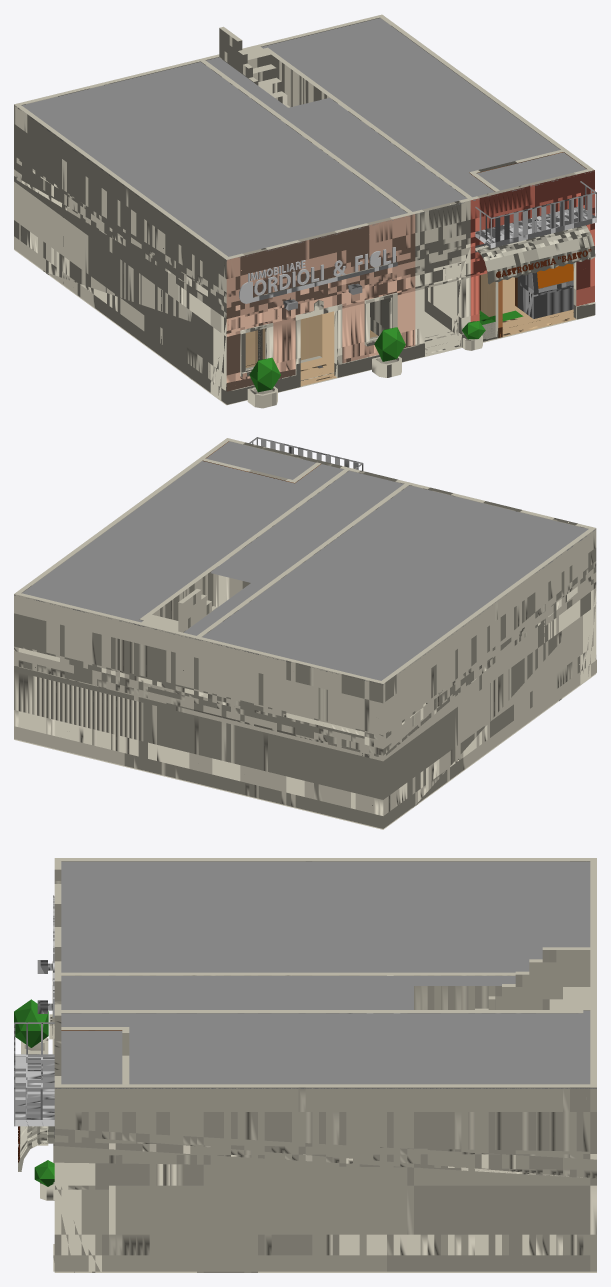
Rendered from Prova Baeto.fbx.
The picture shows the model from 3 angles, top to bottom: view 1: azimuth 30°, elevation 25°; view 2: azimuth 150°, elevation 25°; view 3: azimuth 270°, elevation 25°; orthographic projection. The views are drawn at different scales.
Parts seen in each view (by area): view 1: Paimento, Soffitto, Paimento_1, Platonico, Platonico_1; view 2: Paimento, Soffitto; view 3: Paimento, Soffitto, Platonico_1.
Boxes of the visible parts, x1=… form: Paimento: x1=14, y1=14, x2=596, y2=405; Soffitto: x1=15, y1=18, x2=594, y2=261; Paimento_1: x1=247, y1=356, x2=401, y2=408; Platonico: x1=374, y1=327, x2=405, y2=361; Platonico_1: x1=249, y1=357, x2=280, y2=392; Paimento: x1=14, y1=437, x2=596, y2=829; Soffitto: x1=14, y1=441, x2=595, y2=684; Paimento: x1=14, y1=858, x2=596, y2=1272; Soffitto: x1=55, y1=861, x2=596, y2=1088; Platonico_1: x1=14, y1=999, x2=48, y2=1047.
Size of the model in its own units: 800 by 362 by 860.
